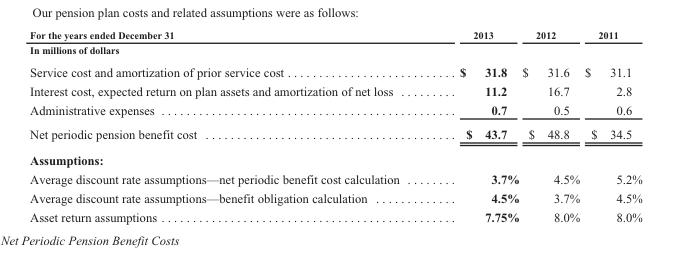table: (29, 28, 641, 223)
table column: (29, 28, 428, 223), (428, 28, 520, 223), (520, 28, 581, 223), (581, 28, 641, 223)
table column header: (29, 28, 641, 42)
table projected row header: (29, 146, 641, 169), (29, 42, 641, 59)
table row: (29, 121, 641, 146), (29, 146, 641, 169), (29, 99, 641, 121), (29, 59, 641, 80), (29, 80, 641, 99), (29, 169, 641, 188), (29, 188, 641, 207), (29, 42, 641, 59), (29, 207, 641, 223), (29, 28, 641, 42)
